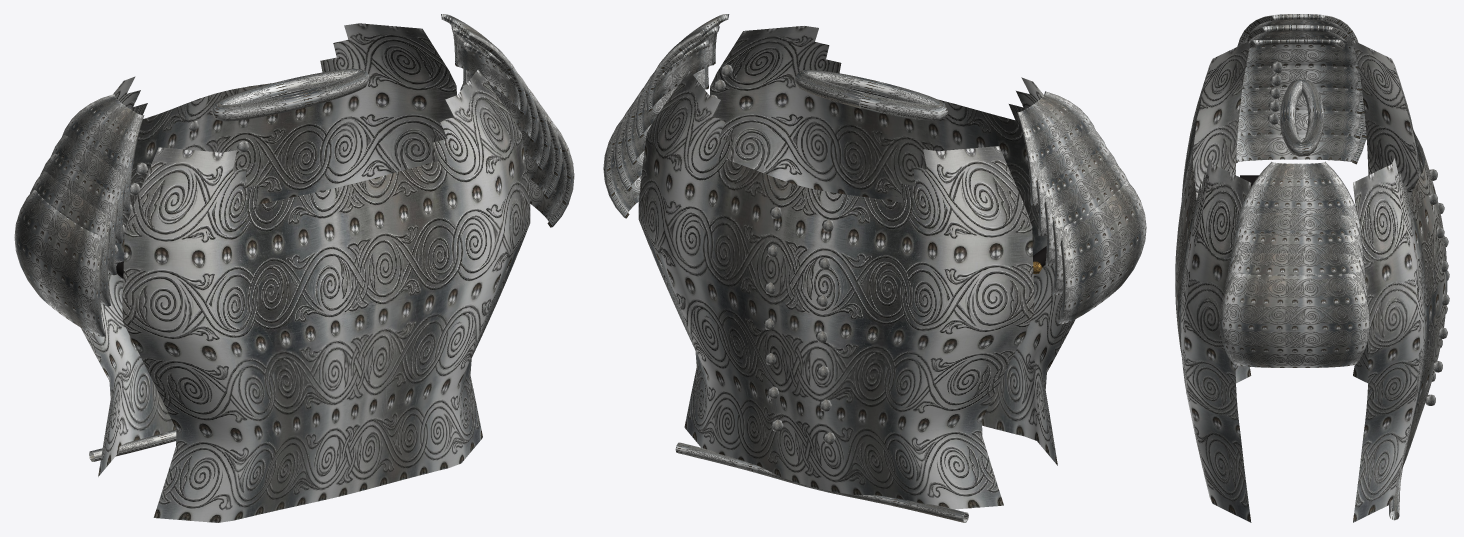
The model's file is ArmaduraFerro.obj.
3 renders of one model, left to right at view 1: azimuth 30°, elevation 25°; view 2: azimuth 150°, elevation 25°; view 3: azimuth 270°, elevation 25°, orthographic. The views are drawn at different scales.
Visible parts, largest first — view 1: steel; view 2: steel; view 3: steel.
Part boxes in pixels (<box>): steel: <box>14,14,574,522</box>; steel: <box>603,14,1146,522</box>; steel: <box>1175,14,1449,522</box>.
Size of the model in its own units: 2.96 by 2.27 by 1.55.
